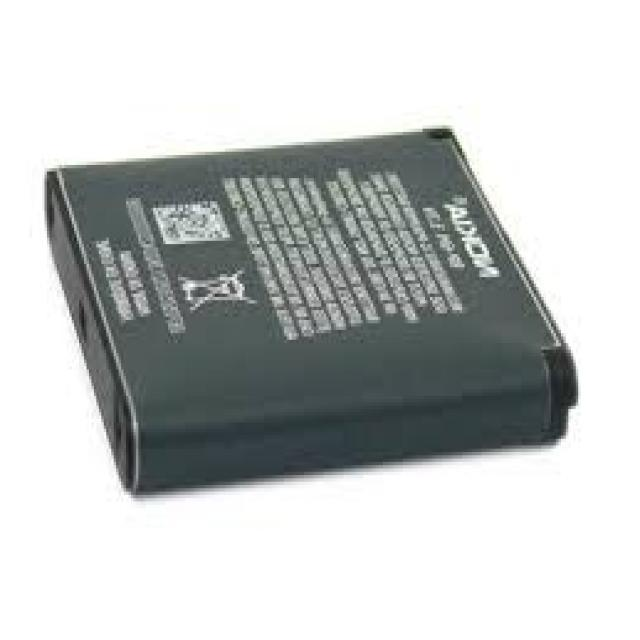battery: (44, 123, 575, 496)
